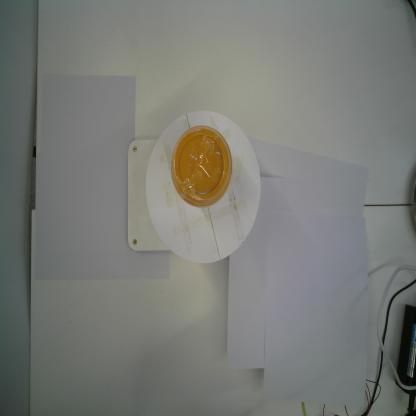Instant Drink: (170, 124, 233, 209)
